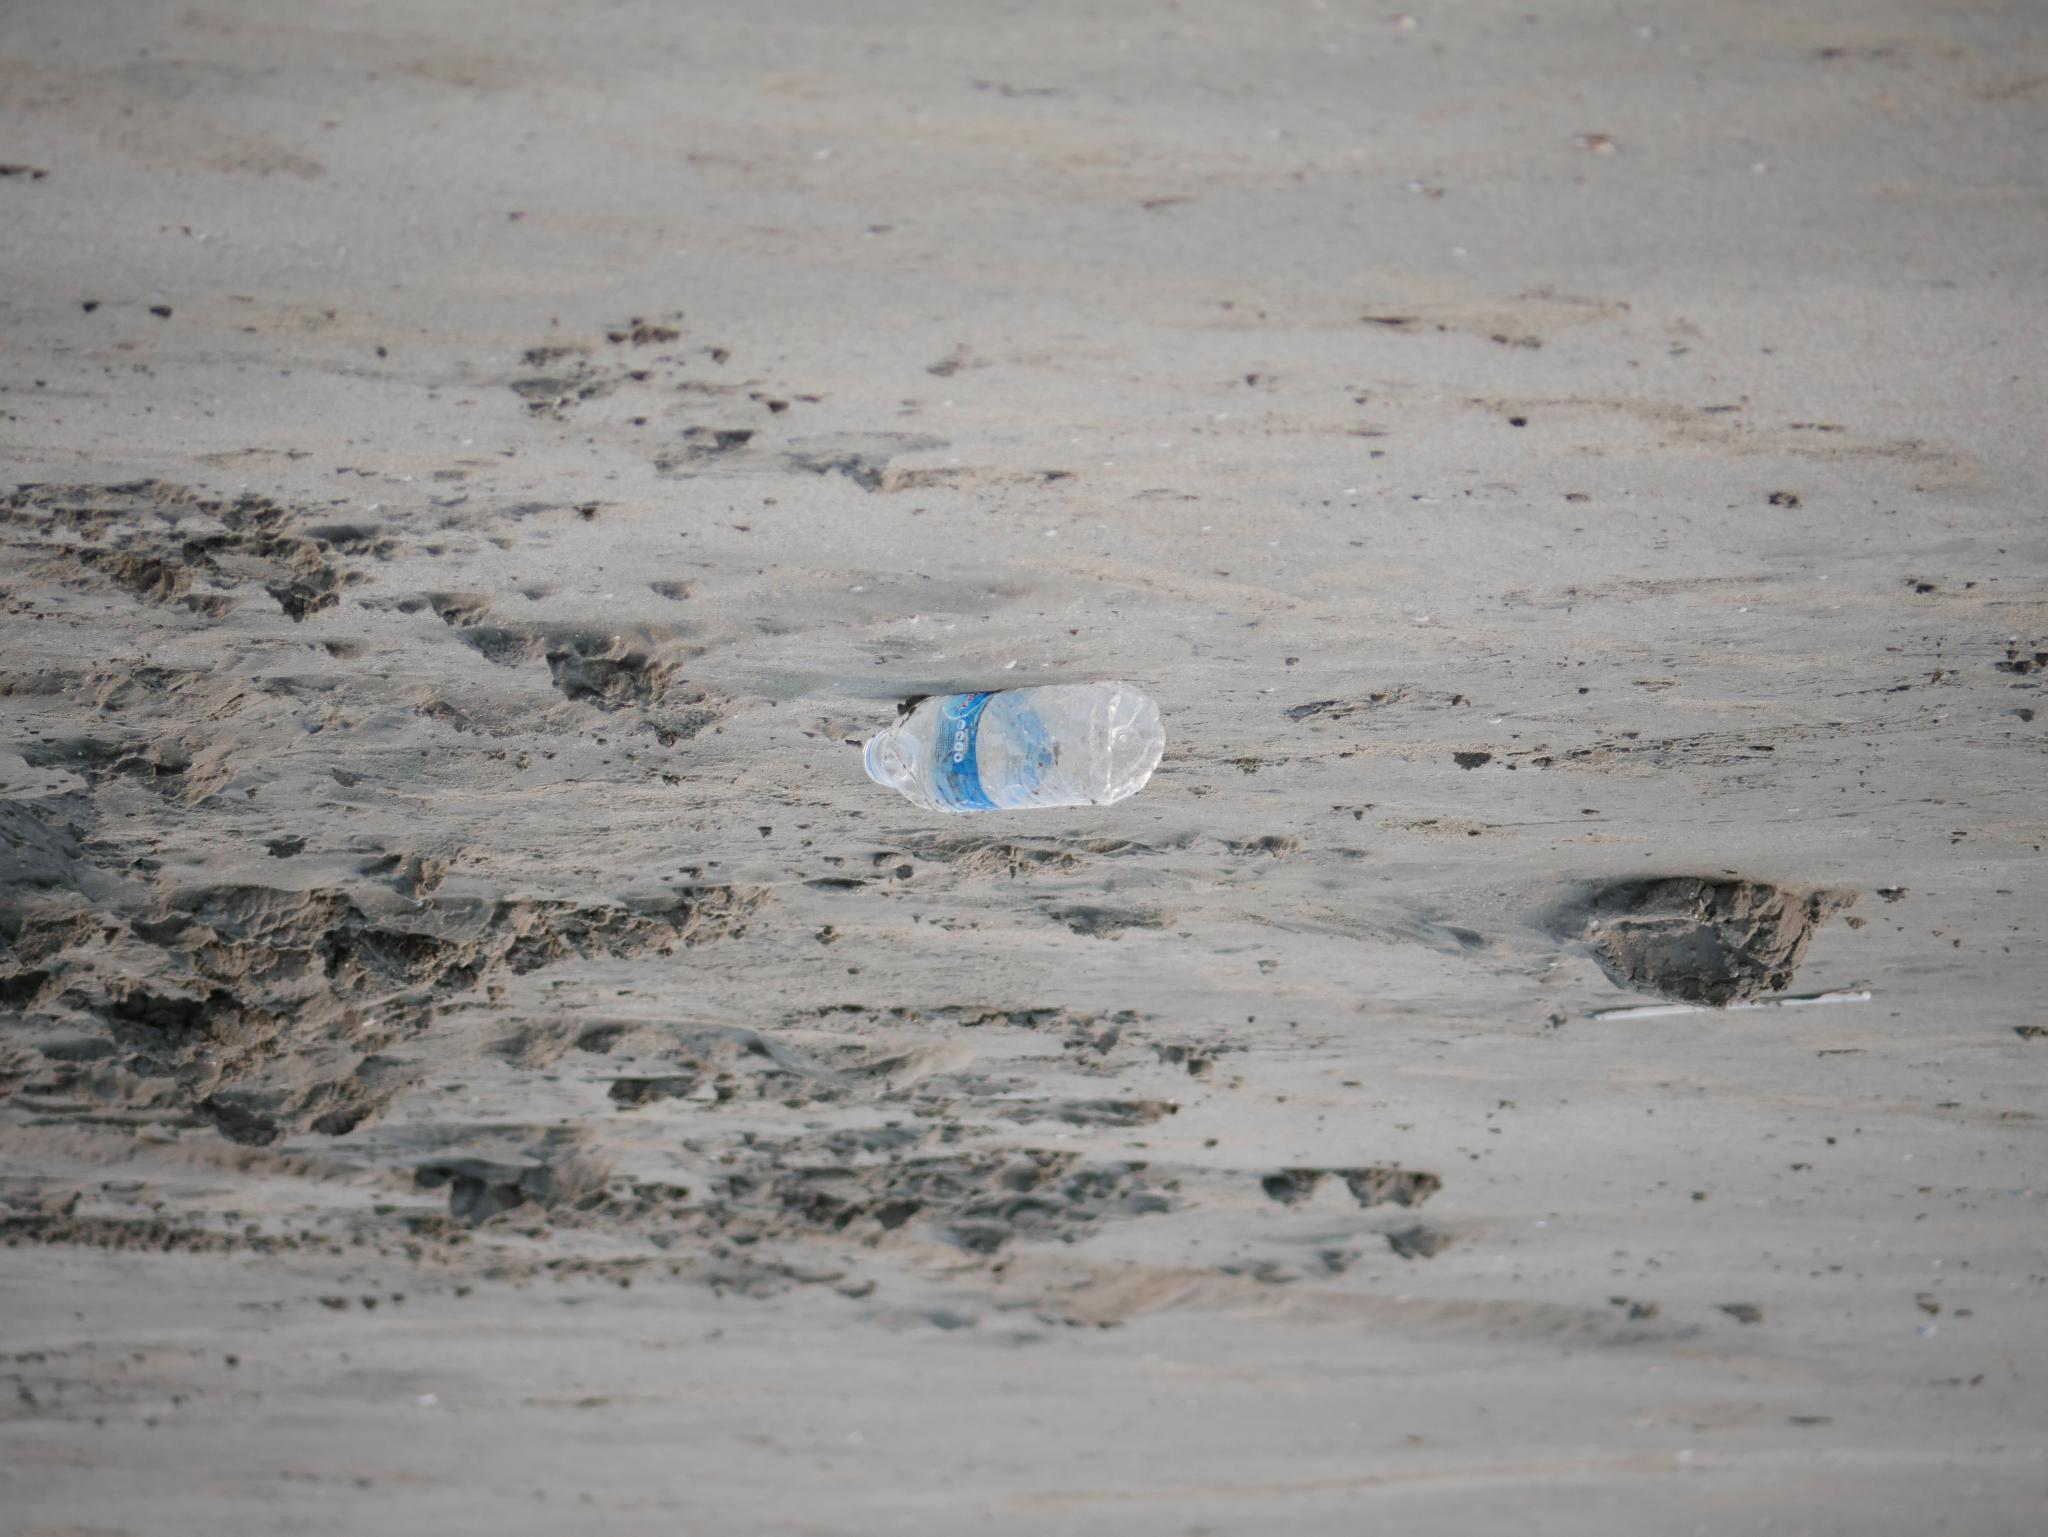Plastic: (839, 659, 1196, 835)
